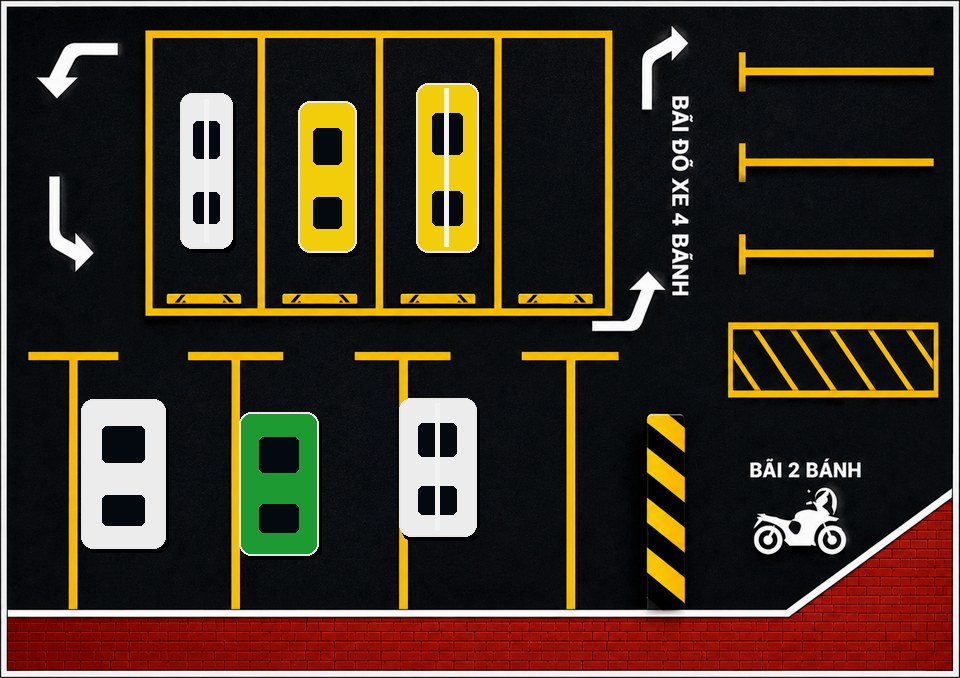empty: (524, 351, 672, 598), (505, 35, 624, 309)
occupied: (35, 351, 199, 598), (360, 351, 518, 598), (201, 351, 357, 598), (148, 35, 267, 309), (267, 35, 386, 309), (386, 35, 505, 309)
